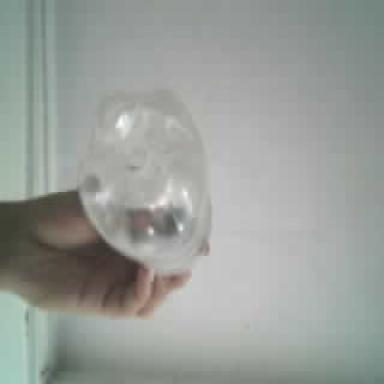bottle: (79, 91, 209, 272)
